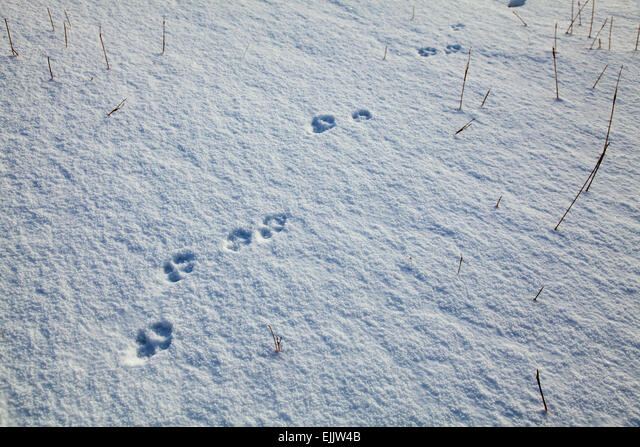fox: (134, 320, 178, 360), (161, 251, 198, 286), (256, 211, 293, 240), (228, 228, 254, 255)
